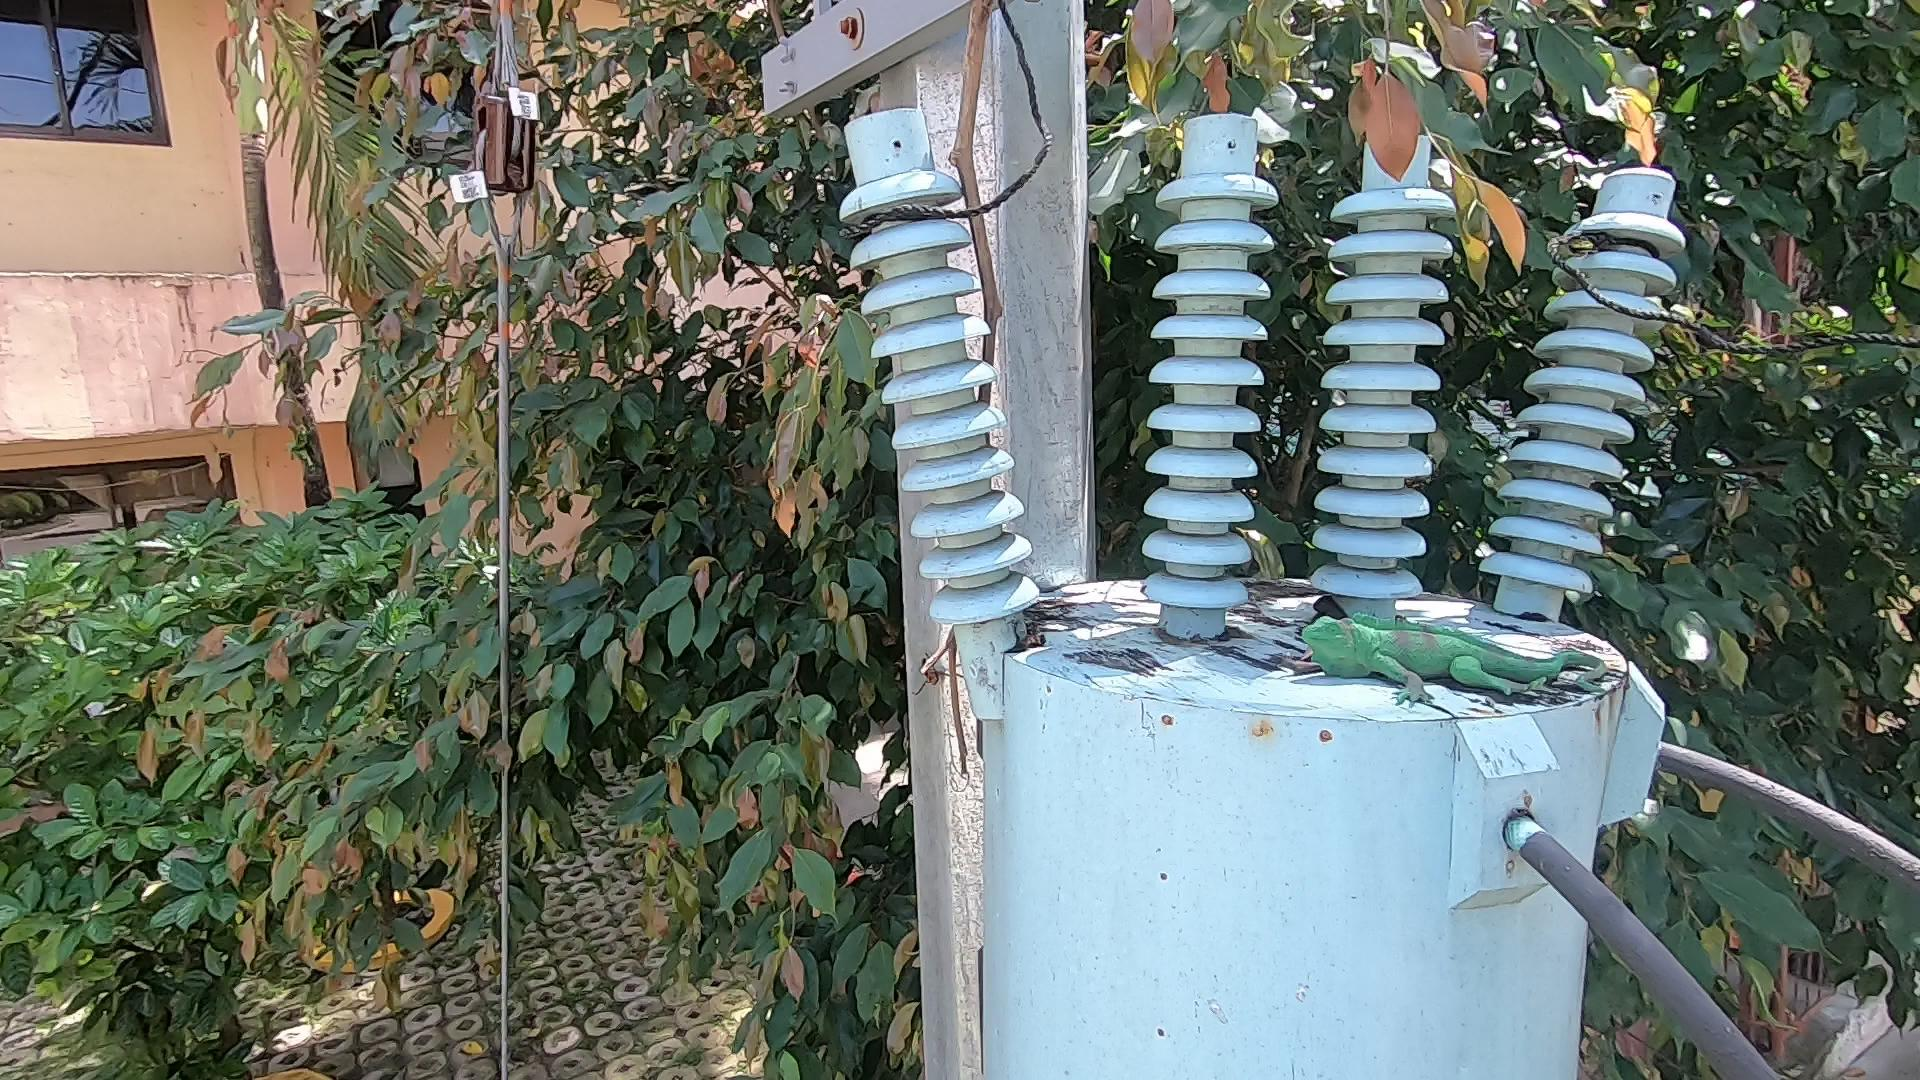branch with leaves: (1344, 36, 1581, 295)
leaf: (1010, 621, 1065, 665), (1302, 593, 1356, 628)
tree branch: (909, 3, 1036, 812)
